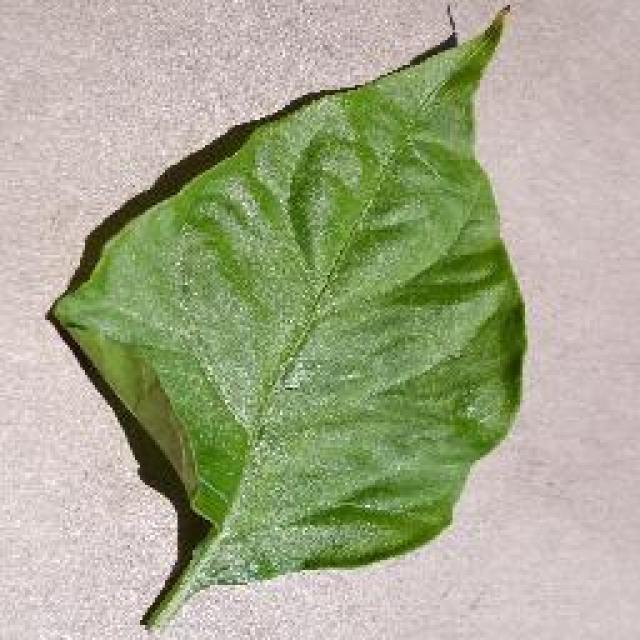Chilli_Healthy: (42, 0, 527, 632)
